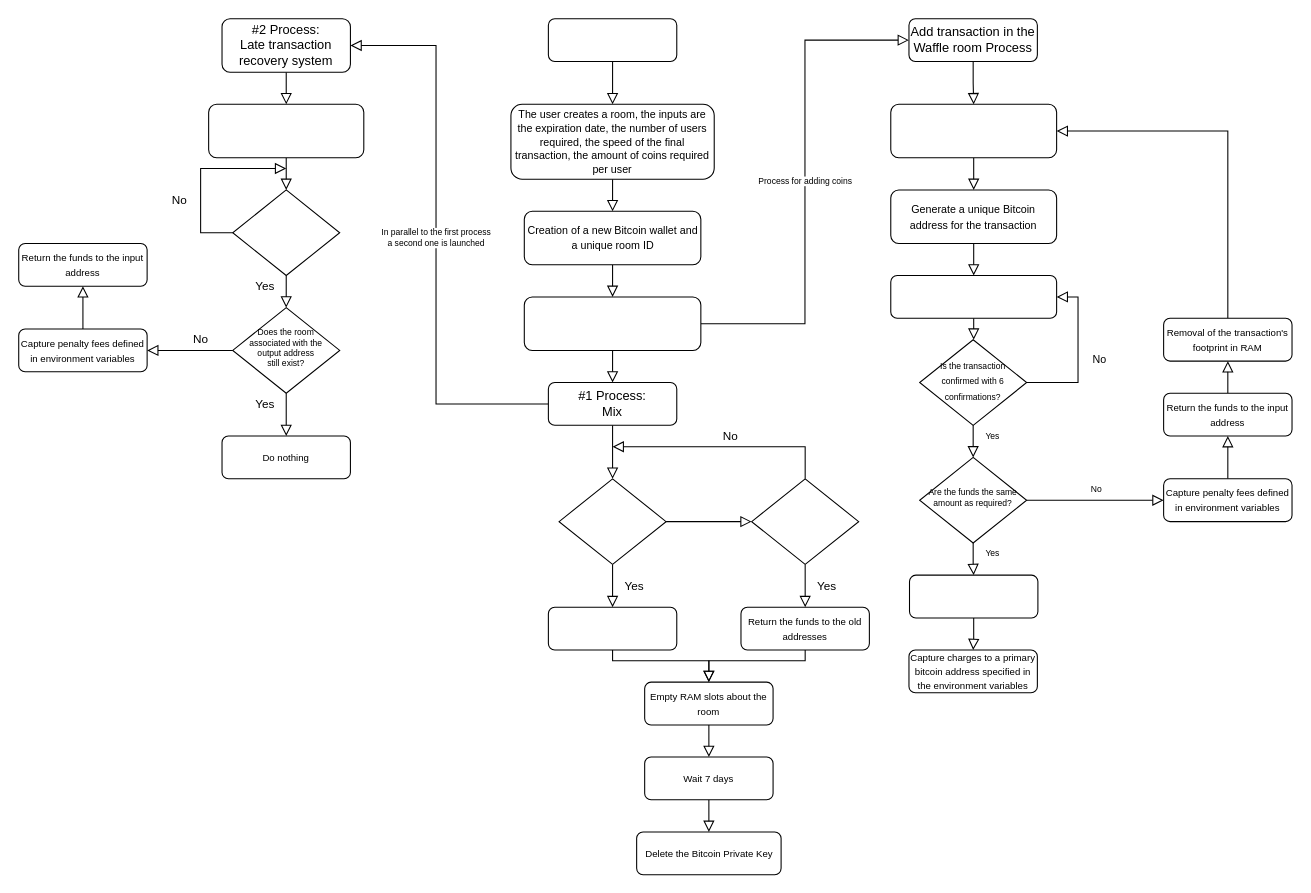
Some shapes in this 1311 by 893 pixel diagram are drawn without their labels. The centre of each missing label's shape, as x and y in pixels:
"A transaction is received" belongs at (x=286, y=130).
"Awaiting funds" belongs at (x=973, y=296).
"Displays the number of transactions remaining and the time until expiration" belongs at (x=612, y=323).
"Does it have 6 confirmations?" belongs at (x=286, y=232).
"Has the expiration date passed?" belongs at (x=805, y=521).
"Is the minimum user requirement met?" belongs at (x=612, y=521).
"Main Process" belongs at (x=612, y=40).
"Mark the address as valid" belongs at (x=973, y=596).
"Remit funds to new addresses" belongs at (x=612, y=628).
"Requests a Bitcoin address from the user for the return of the funds" belongs at (x=973, y=130).
